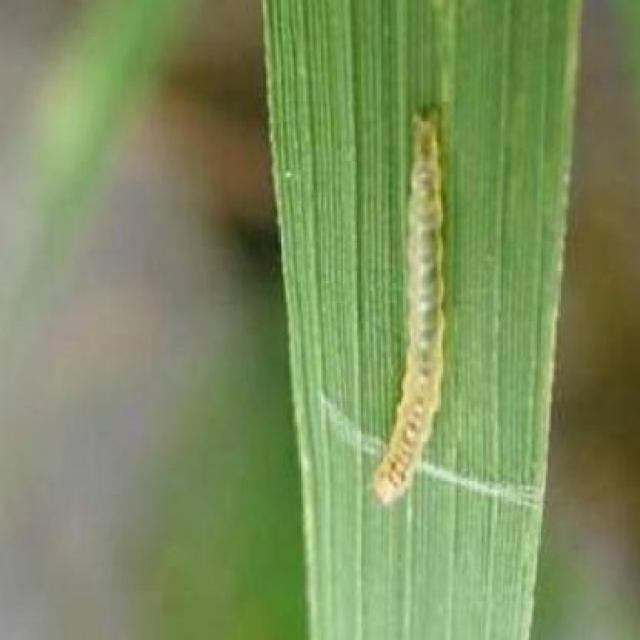leaf-folder: (357, 101, 460, 508)
